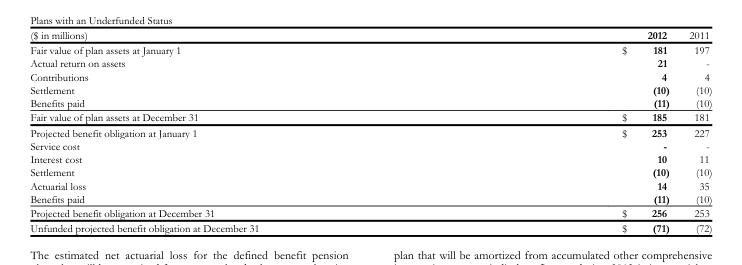table: (29, 28, 711, 234)
table column: (29, 28, 439, 234), (439, 28, 678, 234), (678, 28, 711, 234)
table column header: (29, 28, 711, 42)
table row: (29, 205, 711, 220), (29, 28, 711, 42), (29, 42, 711, 56), (29, 69, 711, 83), (29, 96, 711, 110), (29, 110, 711, 124), (29, 124, 711, 138), (29, 138, 711, 152), (29, 191, 711, 205), (29, 220, 711, 234), (29, 56, 711, 69), (29, 83, 711, 96), (29, 152, 711, 165), (29, 165, 711, 178), (29, 178, 711, 191)
